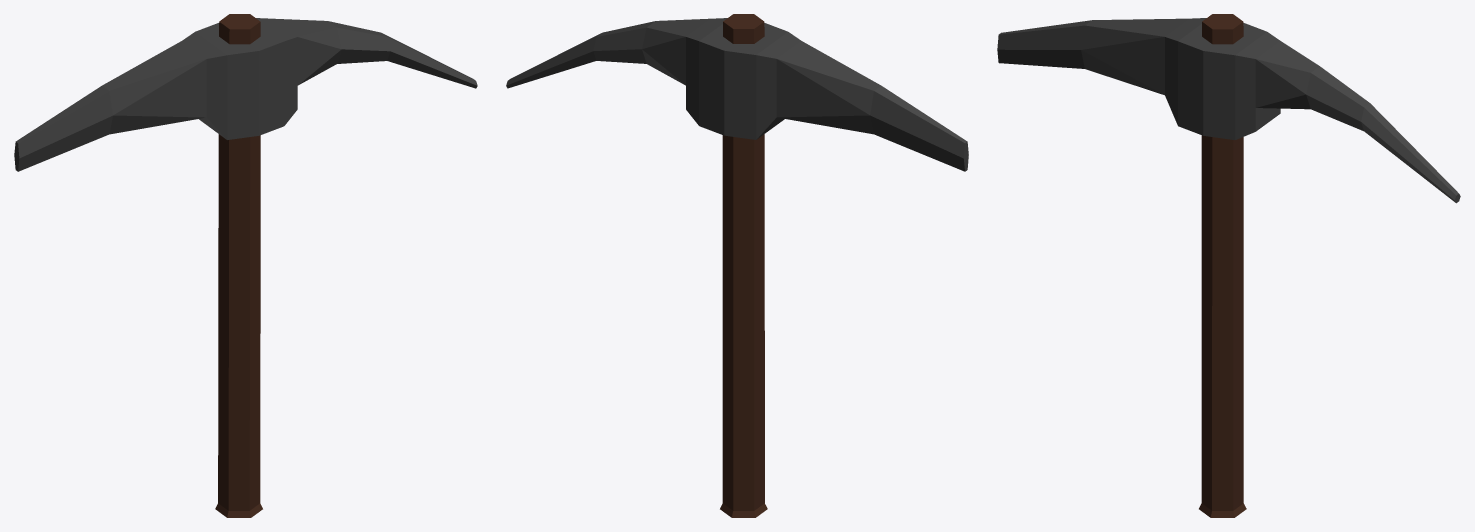
Rendered from Pick_Axe_mat.fbx.
3 views of the same model, side by side, from view 1: azimuth 30°, elevation 25°; view 2: azimuth 150°, elevation 25°; view 3: azimuth 330°, elevation 25° (orthographic).
Parts seen in each view (by area): view 1: Pick_Axe_mat; view 2: Pick_Axe_mat; view 3: Pick_Axe_mat.
Part boxes in pixels (x1=…): Pick_Axe_mat: x1=14, y1=14, x2=477, y2=517; Pick_Axe_mat: x1=506, y1=14, x2=968, y2=517; Pick_Axe_mat: x1=997, y1=14, x2=1460, y2=517.
Bounding box in the file's own units: 40.98 × 42.18 × 6.07.
